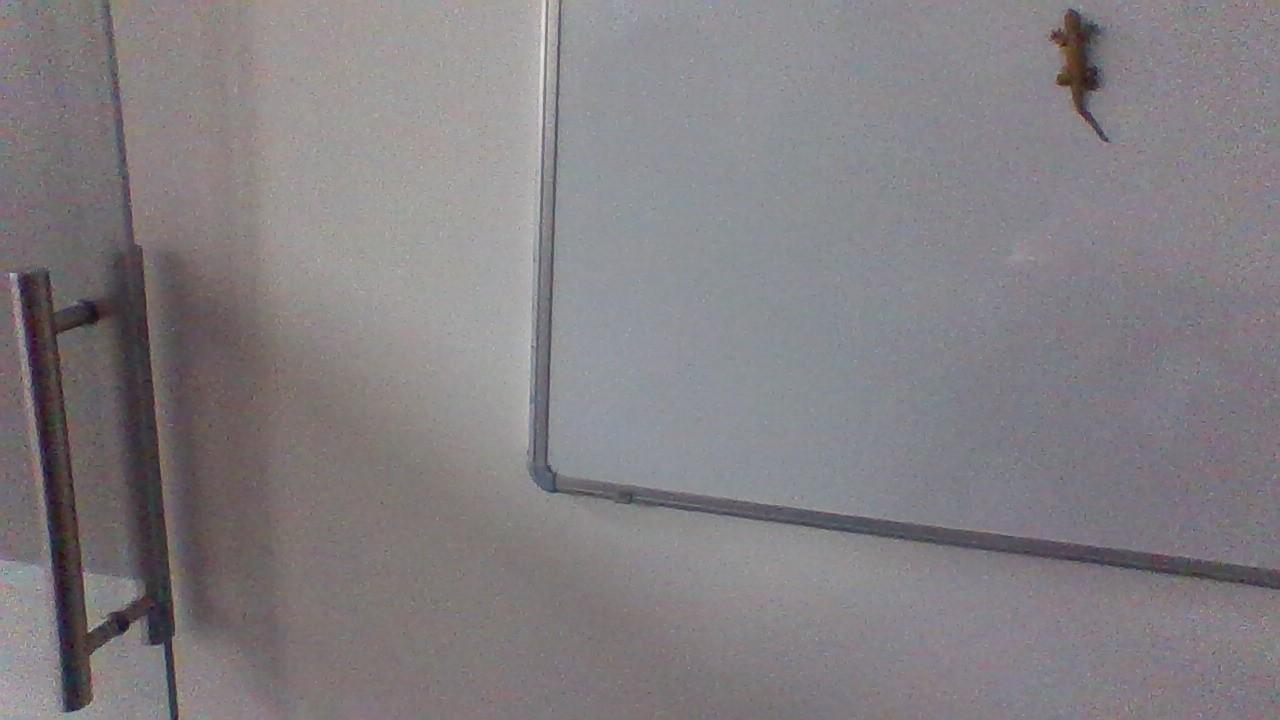lizard: (1037, 7, 1121, 152)
